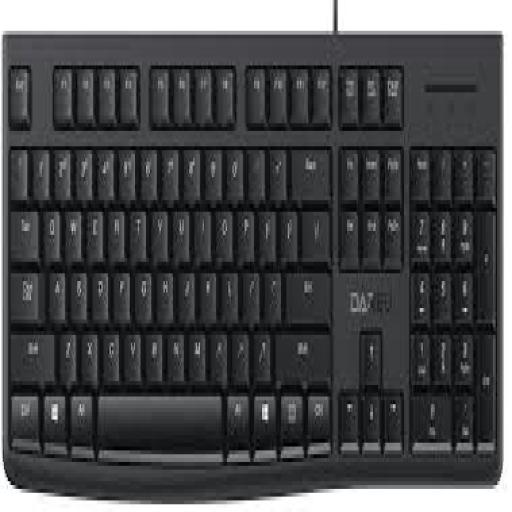keyboard: (0, 35, 504, 497)
